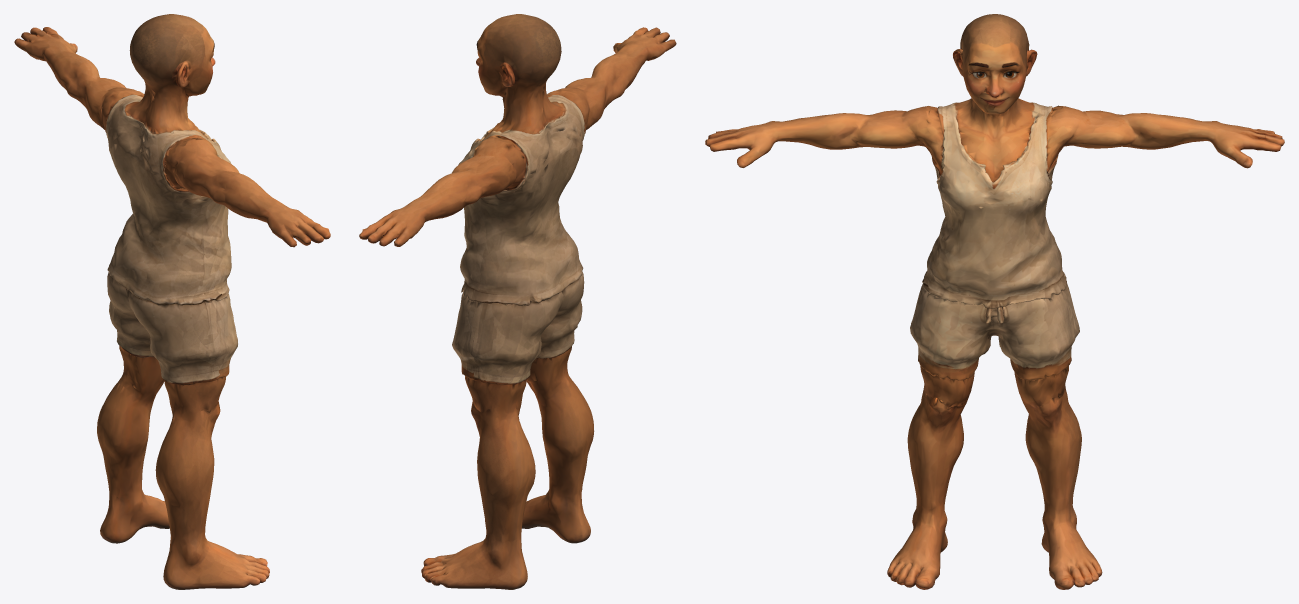
File: skin.glb
3 views of the same model, side by side, from view 1: azimuth 30°, elevation 25°; view 2: azimuth 150°, elevation 25°; view 3: azimuth 270°, elevation 25° (orthographic).
Visible parts, largest first — view 1: female-bare; view 2: female-bare; view 3: female-bare.
Boxes of the visible parts, left/top/right/bottom form: female-bare: left=14, top=14, right=330, bottom=589; female-bare: left=359, top=14, right=676, bottom=589; female-bare: left=705, top=14, right=1284, bottom=589.
Bounding box in the file's own units: 0.2074 × 1 × 0.9633.
1 material, 1 textured.
